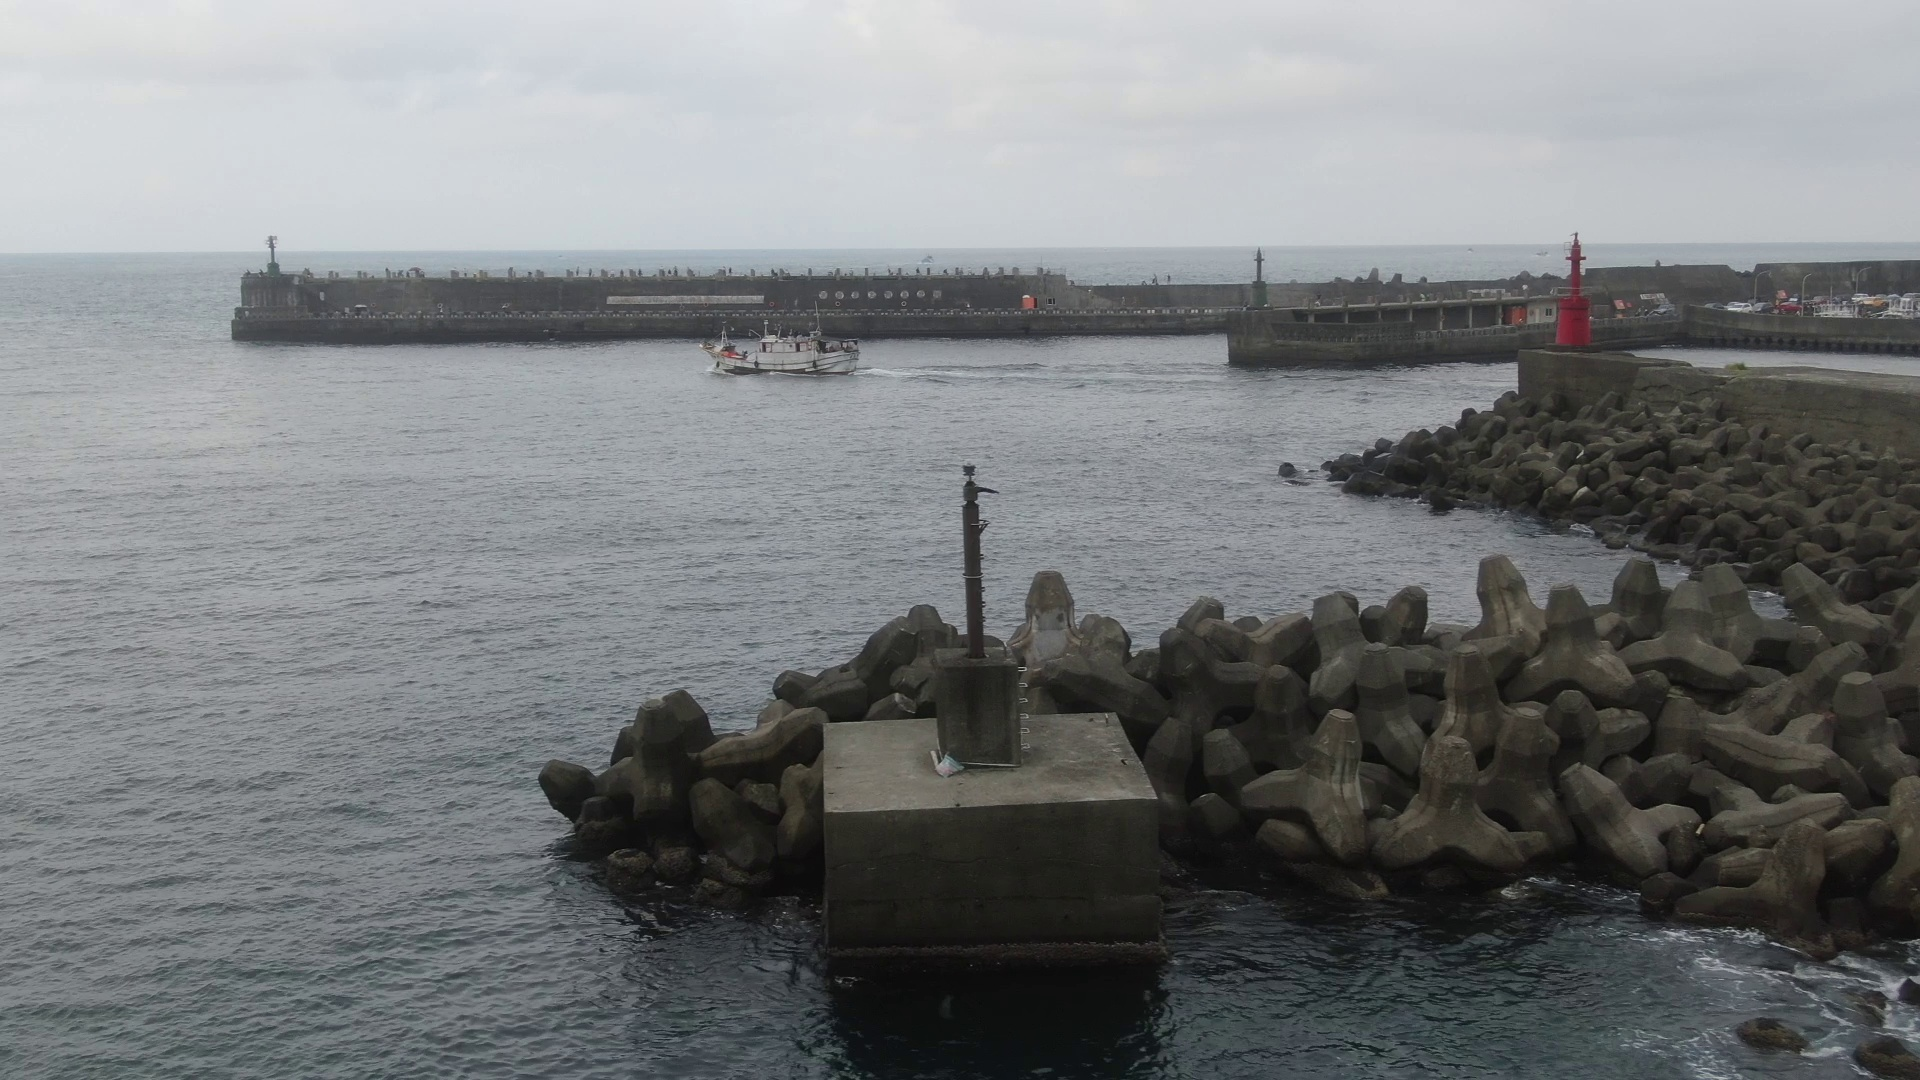garbage: (927, 742, 968, 783)
